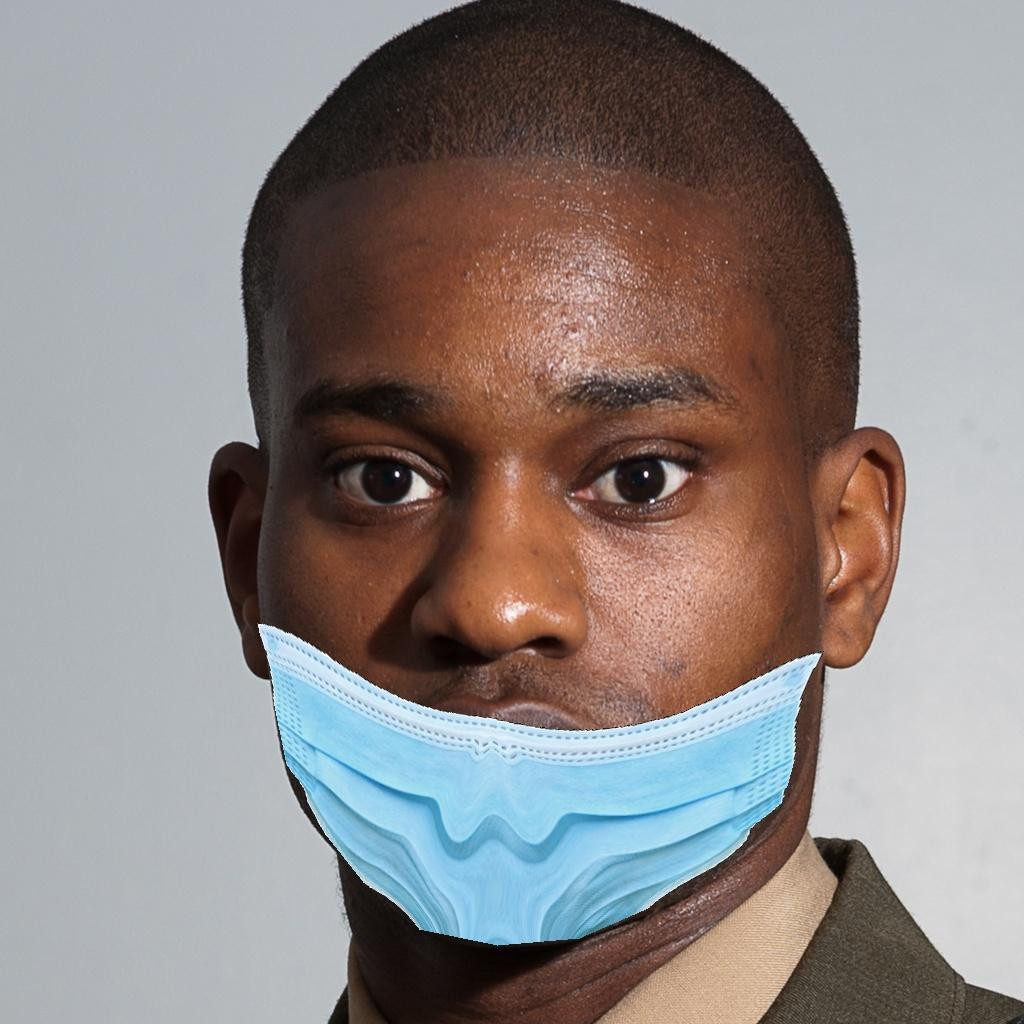Máscara Incorreta: (208, 246, 873, 965)
